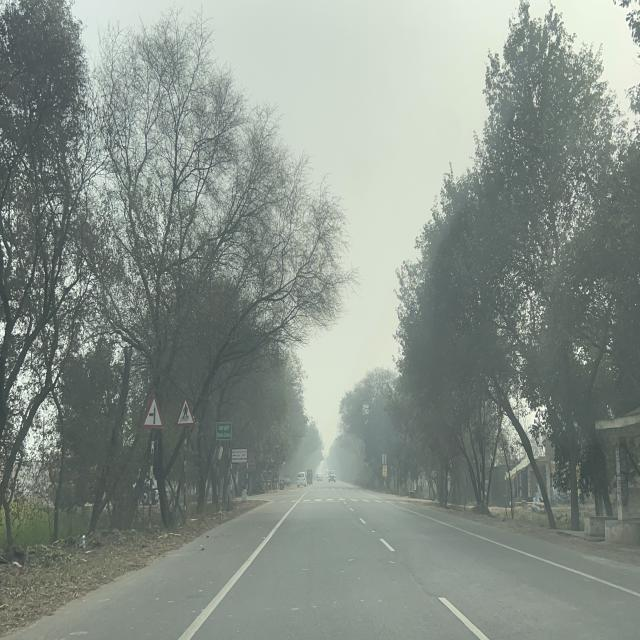GENERAL: (216, 422, 232, 440)
PEDESTRIAN_CROSSING: (176, 396, 196, 426)
SIDE_ROAD_LEFT: (142, 393, 164, 428)
